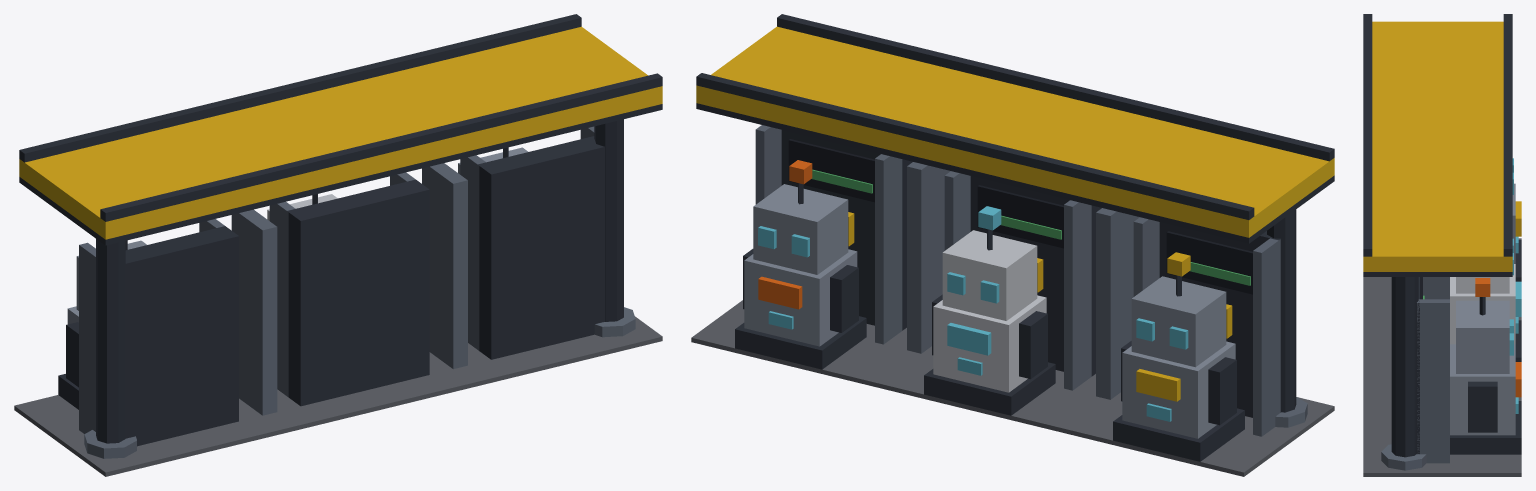
The model's file is Decor_RobotFactory_Charging.fbx.
The picture shows the model from 3 angles, left to right: view 1: azimuth 30°, elevation 25°; view 2: azimuth 150°, elevation 25°; view 3: azimuth 270°, elevation 25°; orthographic projection. The views are drawn at different scales.
Visible parts, largest first — view 1: Charging_Body; view 2: Charging_Body; view 3: Charging_Body.
Boxes of the visible parts, x1,y1,x2,y2 form: Charging_Body: [14, 14, 662, 476]; Charging_Body: [691, 14, 1334, 476]; Charging_Body: [1363, 14, 1521, 476].
Size of the model in its own units: 19 by 8.6 by 5.4.
